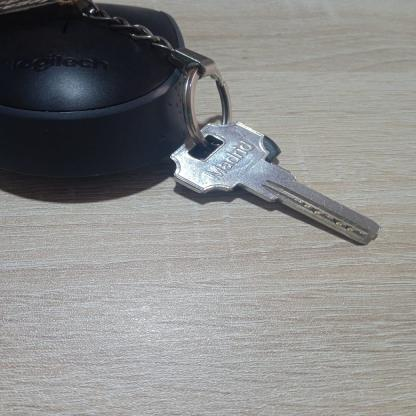key: (168, 115, 384, 248)
